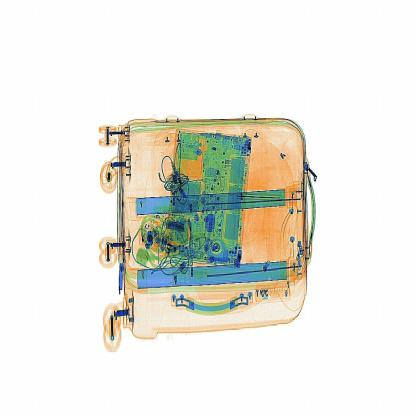wrench: (233, 186, 290, 208)
